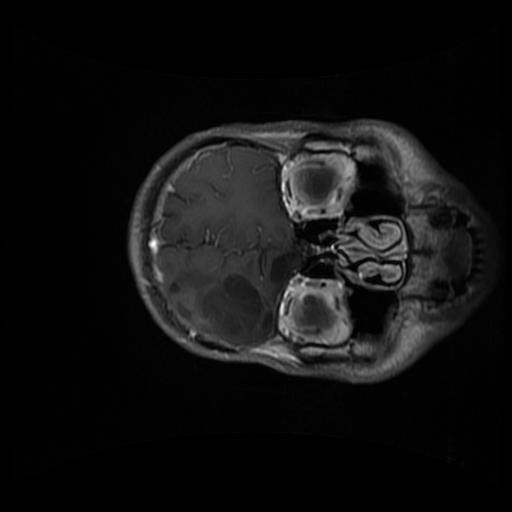glioma: (203, 276, 274, 347)
